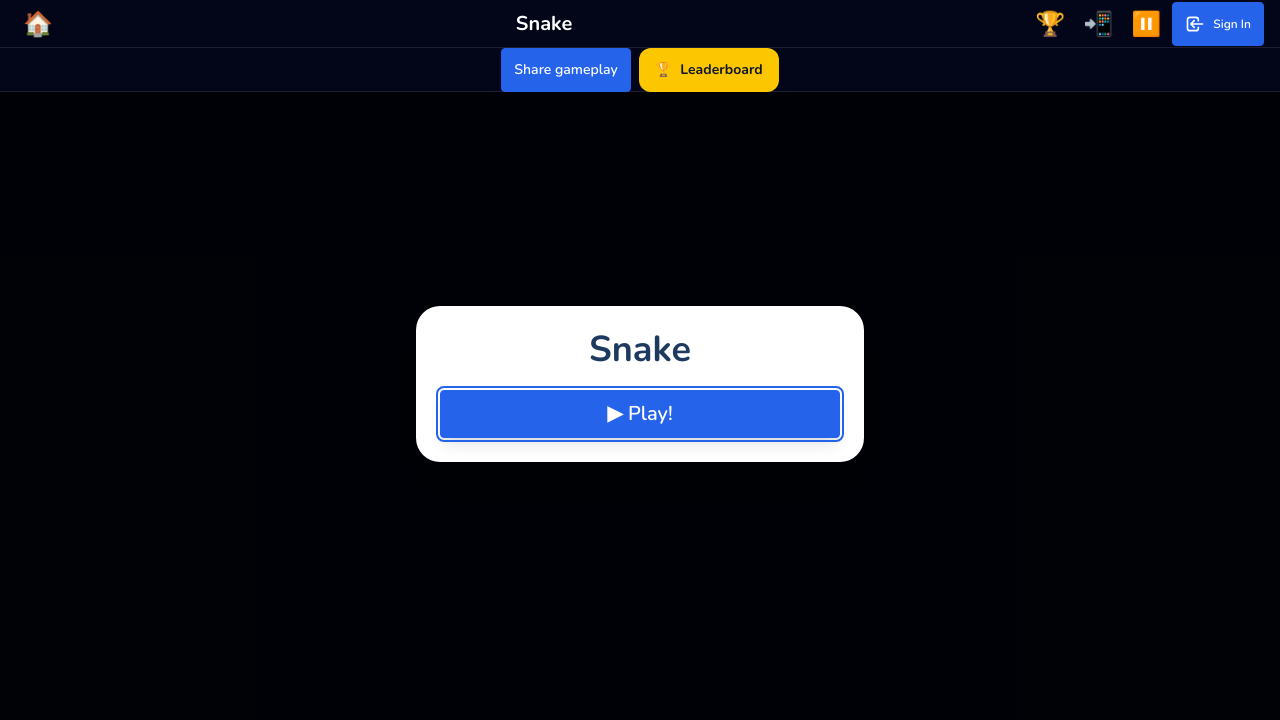
Test case: IOSInstallPrompt › during a game (issue #32) › when the start card has no room for it › leaves the start screen before paint when it would make the card scroll, and waits for the pause menu
The next break shows it.
Click the button named "Pause game" at {"x": 1146, "y": 24}, box [1124, 2, 1168, 46]
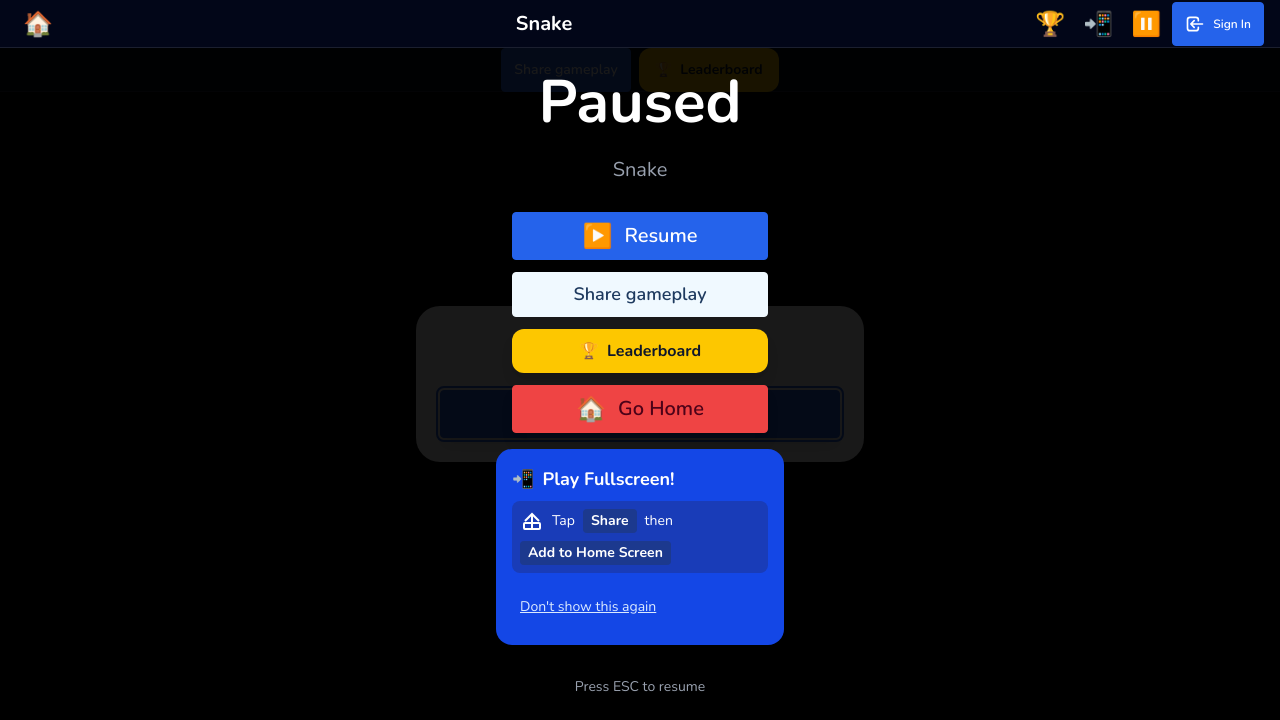
Expected: the element with test id "ios-install-tip" is shown, [496, 448, 784, 644]
